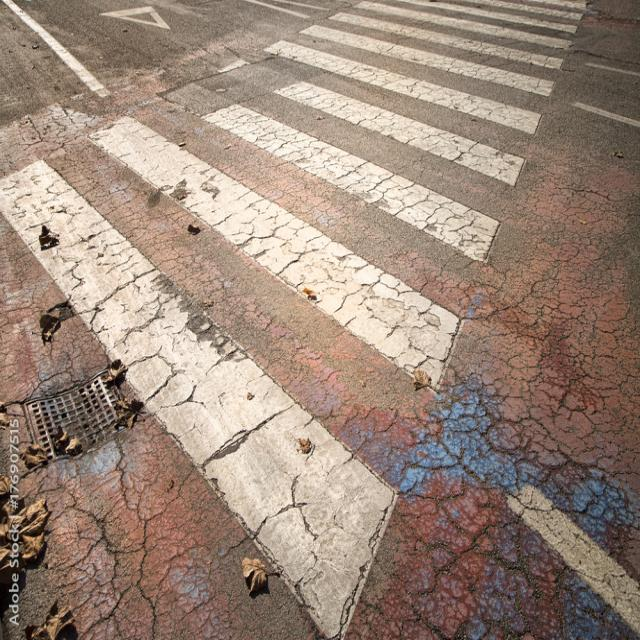Drain Hole: (180, 142, 443, 392)
Pothole: (3, 292, 501, 640)
